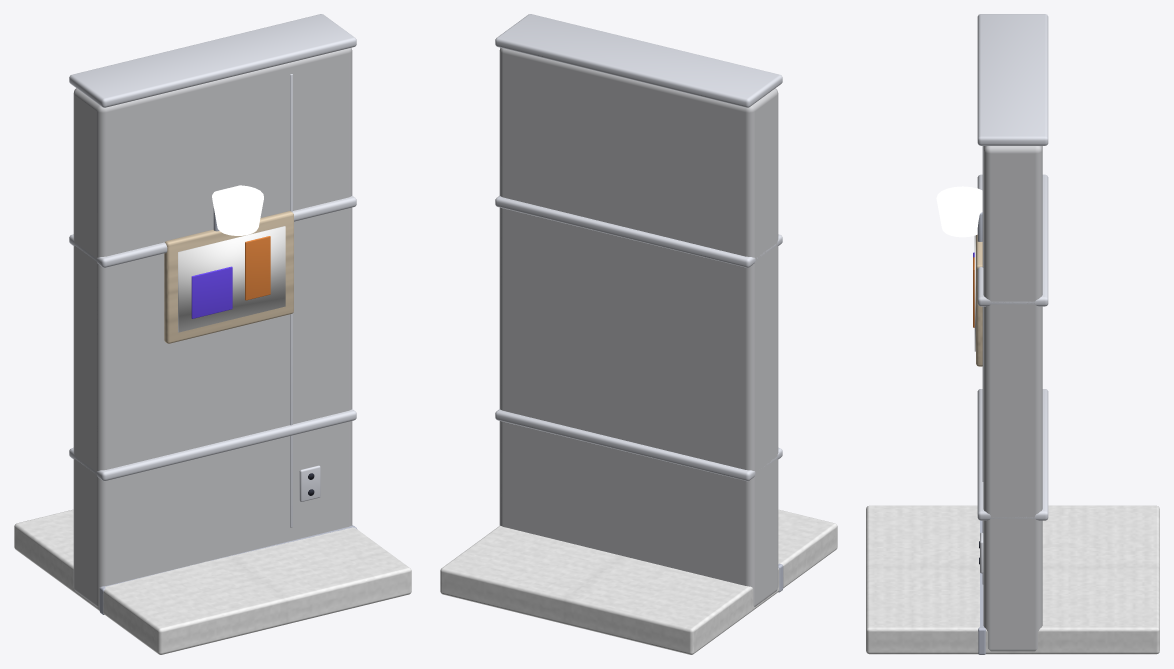
The model's file is room.glb.
3 renders of one model, left to right at view 1: azimuth 30°, elevation 25°; view 2: azimuth 150°, elevation 25°; view 3: azimuth 270°, elevation 25°, orthographic.
Visible parts, largest first — view 1: wall_tall_a_WallPaint, wall_mid_WallPaint, floor_tile_Tint_Floor, wall_low_WallPaint, wall_tall_a_Trim, wall_tall_b_Paper, wall_tall_b_Wood, wall_low_Trim, wall_tall_c_WarmGlow, wall_tall_b_Brand, wall_mid_Trim, wall_tall_b_Book2 (+1 smaller); view 2: wall_tall_a_WallPaint, wall_mid_WallPaint, floor_tile_Tint_Floor, wall_low_WallPaint, wall_tall_a_Trim, wall_mid_Trim, wall_low_Trim; view 3: floor_tile_Tint_Floor, wall_tall_a_WallPaint, wall_mid_WallPaint, wall_tall_a_Trim, wall_tall_c_WarmGlow, wall_low_Trim, wall_mid_Trim, wall_low_WallPaint, wall_tall_b_Wood, wall_low_Baseboard.
Boxes of the visible parts, bbox=[...] form: wall_tall_a_WallPaint: bbox=[73, 47, 352, 604]; wall_mid_WallPaint: bbox=[73, 212, 352, 578]; floor_tile_Tint_Floor: bbox=[14, 509, 411, 654]; wall_low_WallPaint: bbox=[73, 425, 352, 606]; wall_tall_a_Trim: bbox=[69, 14, 356, 527]; wall_tall_b_Paper: bbox=[178, 226, 285, 332]; wall_tall_b_Wood: bbox=[164, 211, 293, 343]; wall_low_Trim: bbox=[69, 409, 356, 481]; wall_tall_c_WarmGlow: bbox=[212, 185, 263, 235]; wall_tall_b_Brand: bbox=[191, 266, 232, 318]; wall_mid_Trim: bbox=[69, 195, 356, 267]; wall_tall_b_Book2: bbox=[245, 236, 270, 300]; wall_tall_a_WallPaint: bbox=[499, 47, 778, 605]; wall_mid_WallPaint: bbox=[499, 212, 778, 584]; floor_tile_Tint_Floor: bbox=[440, 509, 837, 654]; wall_low_WallPaint: bbox=[499, 425, 778, 606]; wall_tall_a_Trim: bbox=[495, 14, 782, 107]; wall_mid_Trim: bbox=[495, 195, 782, 267]; wall_low_Trim: bbox=[495, 409, 782, 481]; floor_tile_Tint_Floor: bbox=[866, 505, 1159, 654]; wall_tall_a_WallPaint: bbox=[983, 146, 1042, 651]; wall_mid_WallPaint: bbox=[983, 311, 1042, 649]; wall_tall_a_Trim: bbox=[977, 14, 1048, 584]; wall_tall_c_WarmGlow: bbox=[936, 186, 982, 237]; wall_low_Trim: bbox=[977, 389, 1048, 520]; wall_mid_Trim: bbox=[977, 174, 1048, 306]; wall_low_WallPaint: bbox=[983, 526, 1042, 629]; wall_tall_b_Wood: bbox=[976, 234, 982, 366]; wall_low_Baseboard: bbox=[978, 520, 985, 654].
Size of the model in its own units: 1 by 1.94 by 0.995.
Materials: 11 (2 with a texture image).
